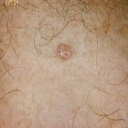Carcinoma: (55, 42, 73, 60)
